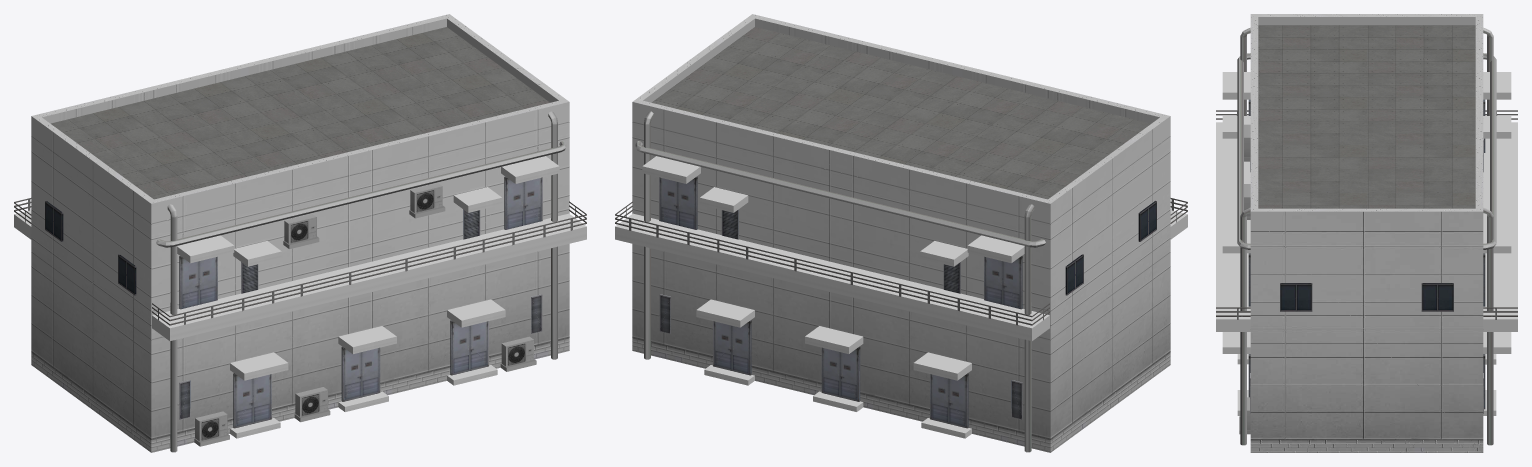
Rendered from substation_ht_1005_02.obj.
3 renders of one model, left to right at view 1: azimuth 30°, elevation 25°; view 2: azimuth 150°, elevation 25°; view 3: azimuth 270°, elevation 25°, orthographic. The views are drawn at different scales.
Parts seen in each view (by area): view 1: substation_ht_1005_02; view 2: substation_ht_1005_02; view 3: substation_ht_1005_02.
Part boxes in pixels (x1,y1,x2,y2): substation_ht_1005_02: [14, 14, 586, 452]; substation_ht_1005_02: [615, 14, 1187, 452]; substation_ht_1005_02: [1216, 14, 1517, 452].
Bounding box in the file's own units: 171 × 96.69 × 110.
5 materials, 5 textured.
